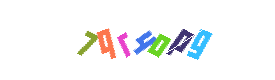4: (96, 0, 176, 80)
7: (66, 0, 146, 80)
G: (140, 0, 220, 80)
O: (114, 0, 194, 80)
P: (137, 0, 217, 80)
Q: (84, 0, 164, 80)
R: (90, 0, 170, 80)
